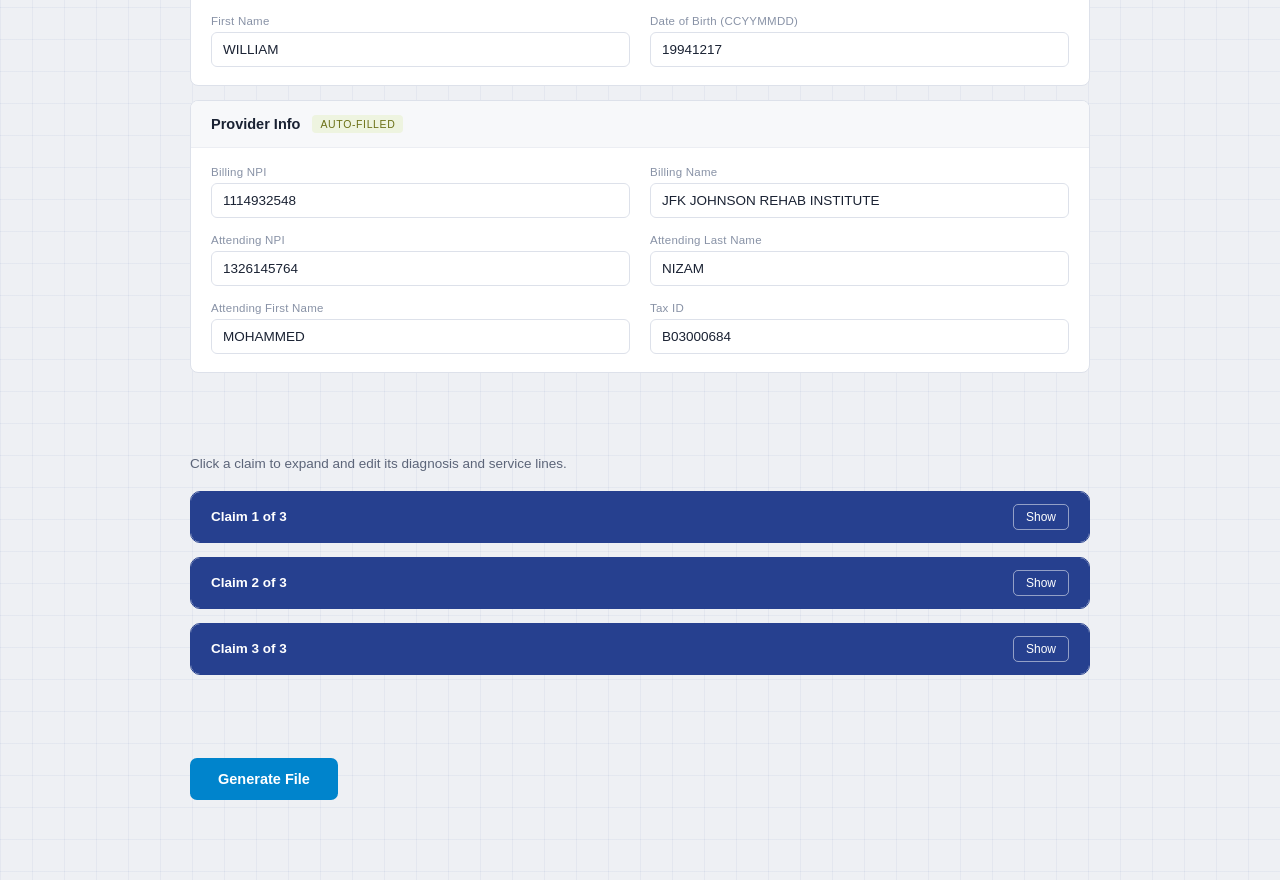
it: the claim card › does not double-toggle when Show is clicked
(page scrolled)
Click the 1st button "Show" at (1041, 516), box x1=1013 y1=504 x2=1069 y2=530
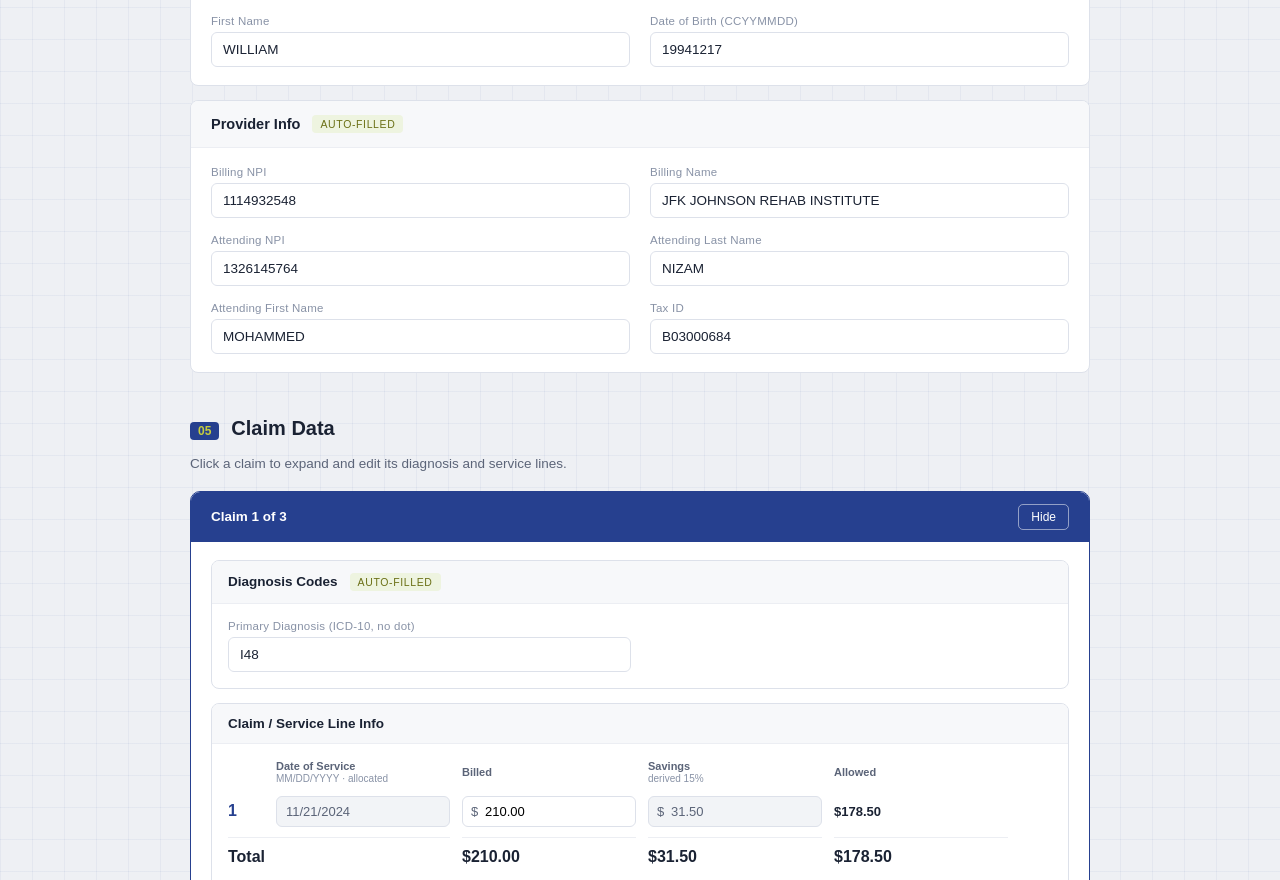
Now the number of buttons "Hide" is 1, box x1=1018 y1=504 x2=1069 y2=530
